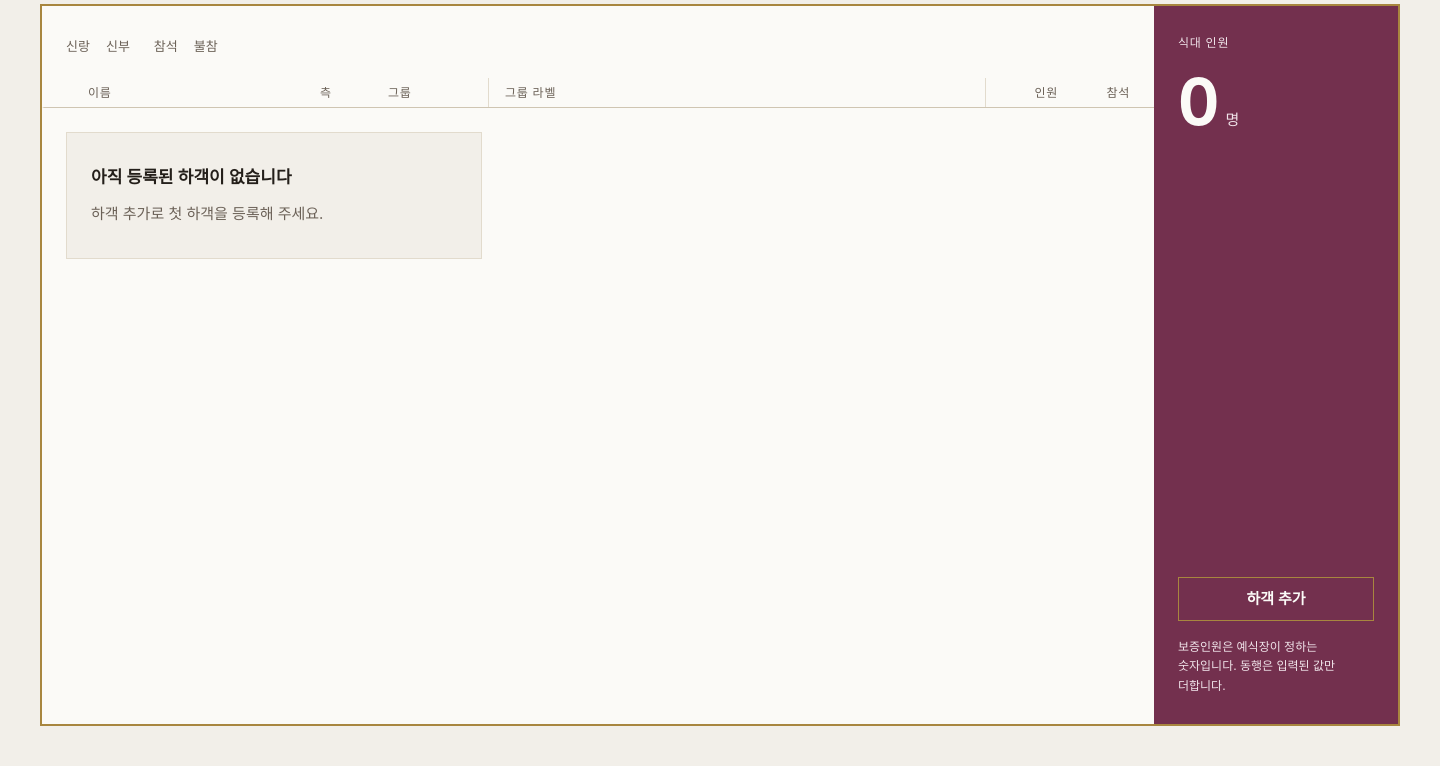
Test: will not guess a 측 for a guest, and says so instead of sending one
Step 1. Click the button "하객 추가" → {"x": 1276, "y": 599}, box [1178,577,1374,621]
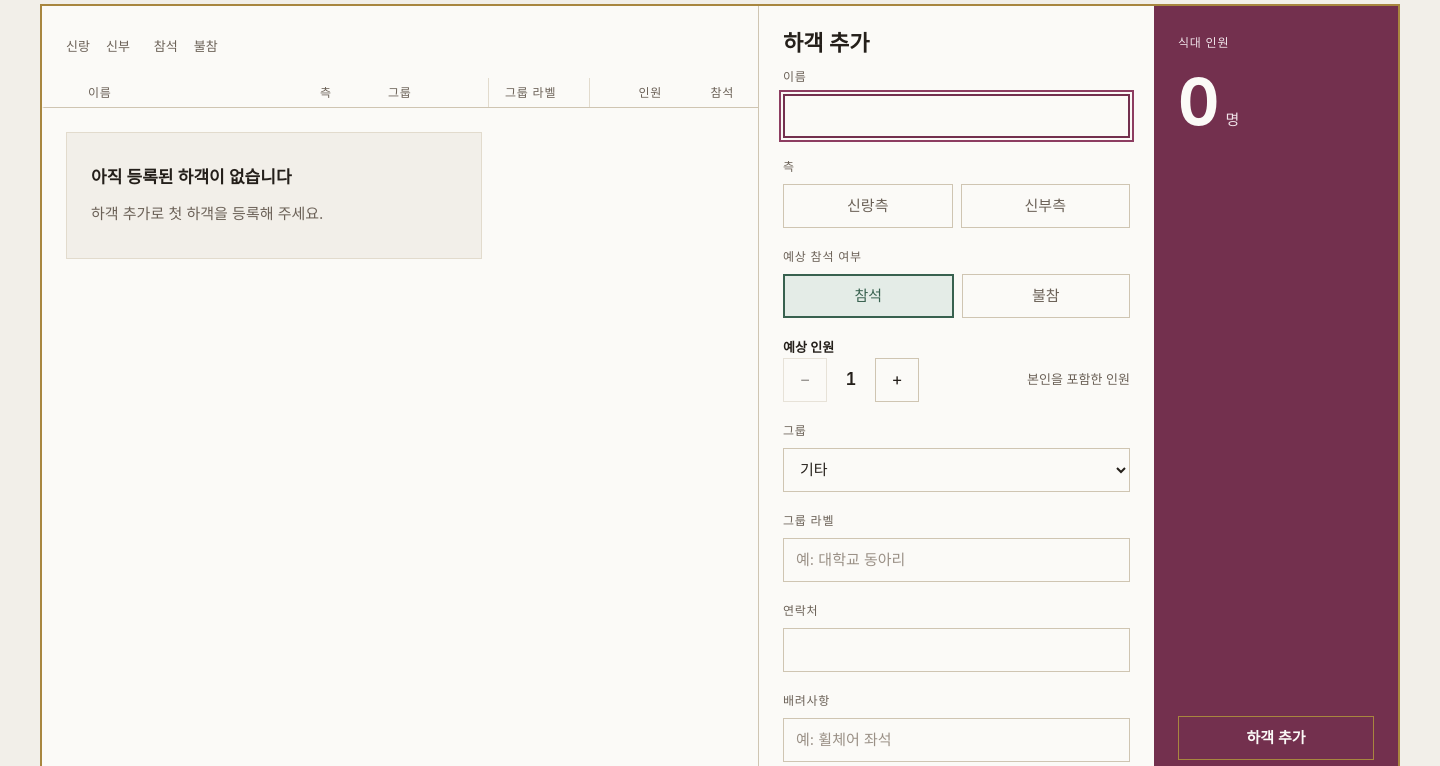
Expected: the radio button labelled "신랑측" is not checked, [783,184,952,228]
Expected: the radio button labelled "신부측" is not checked, [960,184,1130,228]
Step 2. Type "김영수" into the field labelled "이름" → {"x": 956, "y": 116}, box [783,94,1130,138]
(page scrolled)
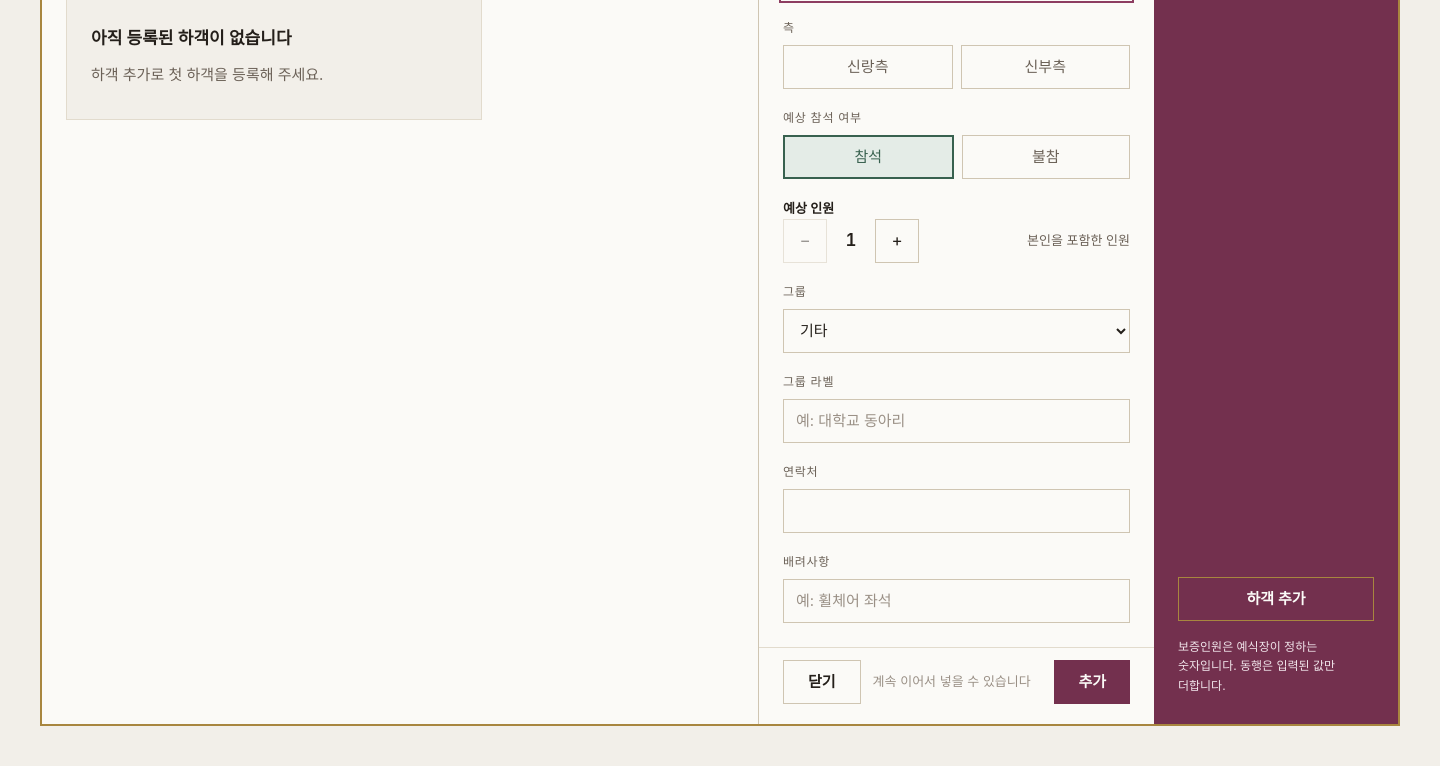
Step 3. Click the button "추가" → {"x": 1092, "y": 682}, box [1054,660,1130,704]
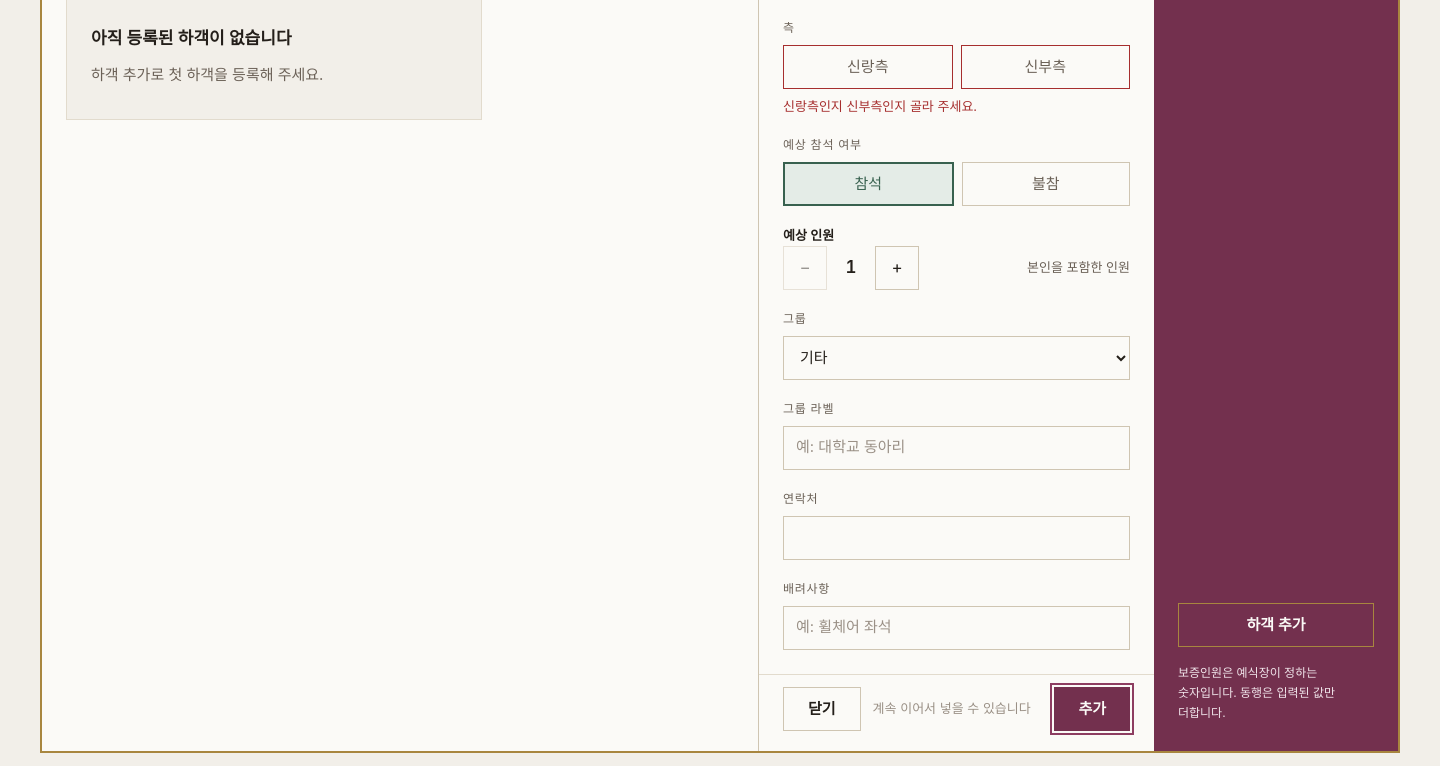
Expected: the text "신랑측인지 신부측인지 골라 주세요." is shown, [783,98,977,114]
